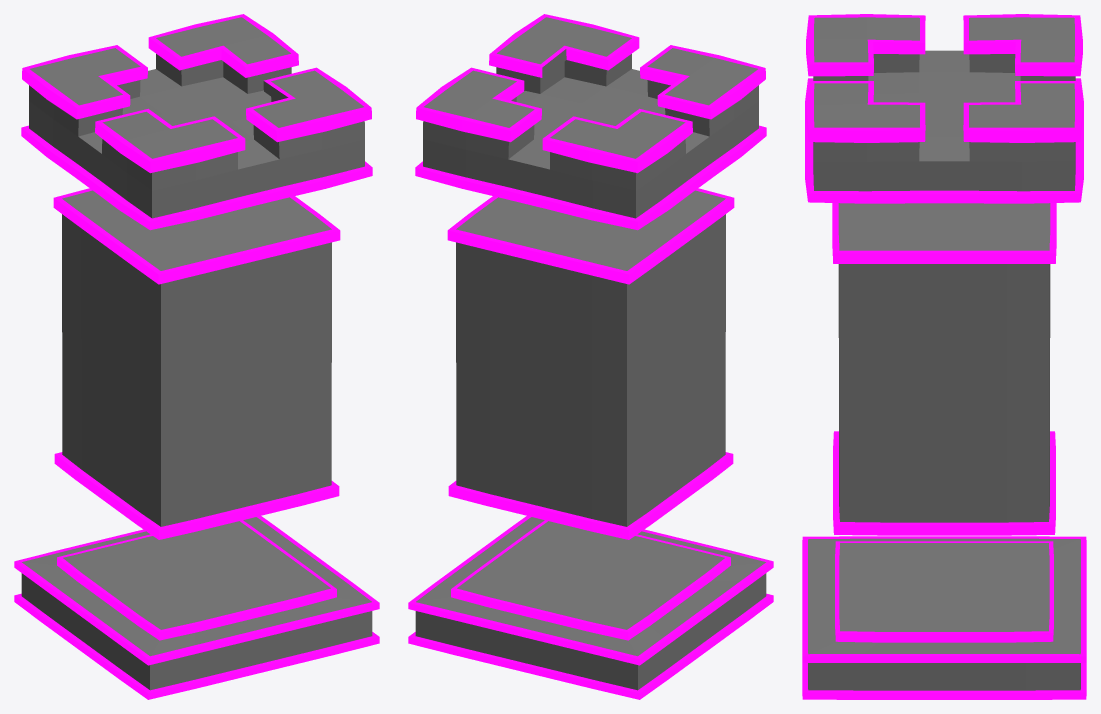
Rendered from BaseTower Health upgrade 3.fbx.
3 views of the same model, side by side, from view 1: azimuth 30°, elevation 25°; view 2: azimuth 150°, elevation 25°; view 3: azimuth 270°, elevation 25° (orthographic). The views are drawn at different scales.
Parts seen in each view (by area): view 1: TowerBase 3rd upgrade armour; view 2: TowerBase 3rd upgrade armour; view 3: TowerBase 3rd upgrade armour.
Boxes of the visible parts, x1,y1,x2,y2 form: TowerBase 3rd upgrade armour: (14,14,379,699); TowerBase 3rd upgrade armour: (408,14,773,699); TowerBase 3rd upgrade armour: (802,14,1086,699).
Size of the model in its own units: 52.26 by 115 by 52.35.
